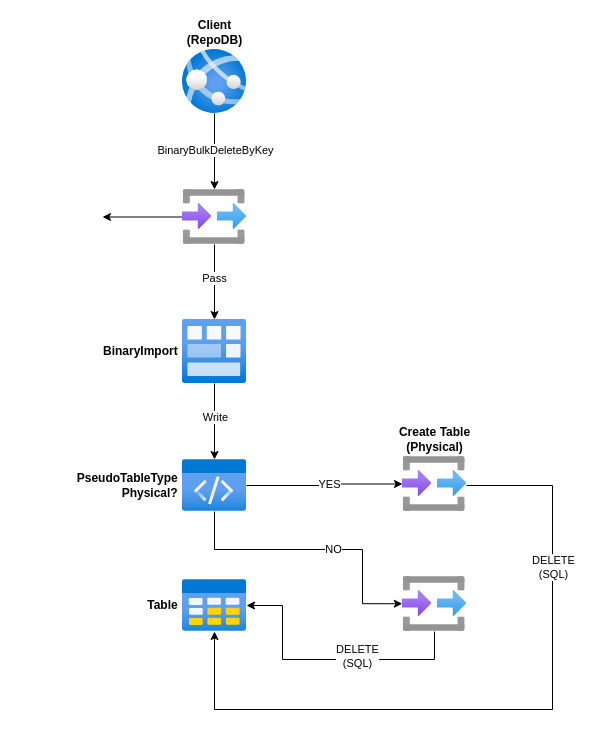
Image size: 591x735. Some labels were removed from this diagram. Each missing label, with the centre of its shape:
Create Table (Temporary): the point at 434,603
IEnumerable<TPrimaryKey>: the point at 214,216
